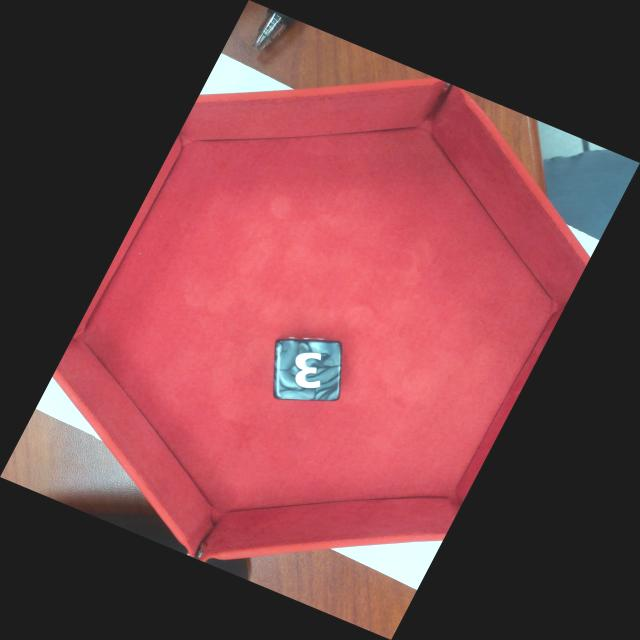dice: (274, 339, 341, 400)
